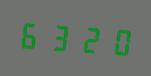six: (18, 16, 45, 53)
three: (46, 18, 73, 55)
two: (74, 19, 101, 57)
zero: (102, 21, 129, 59)
